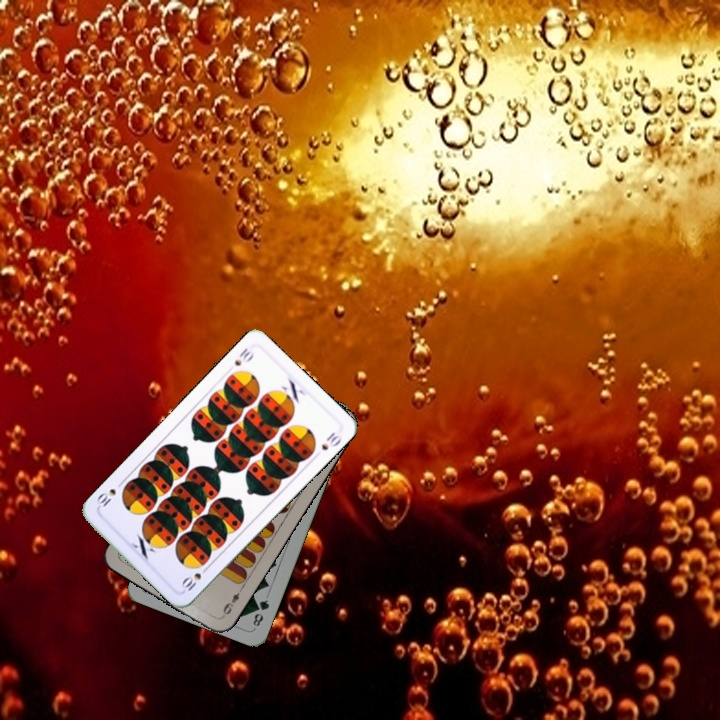E9: (218, 584, 245, 620)
G8: (249, 595, 272, 629)
S10: (177, 562, 212, 594), (230, 343, 257, 368)
